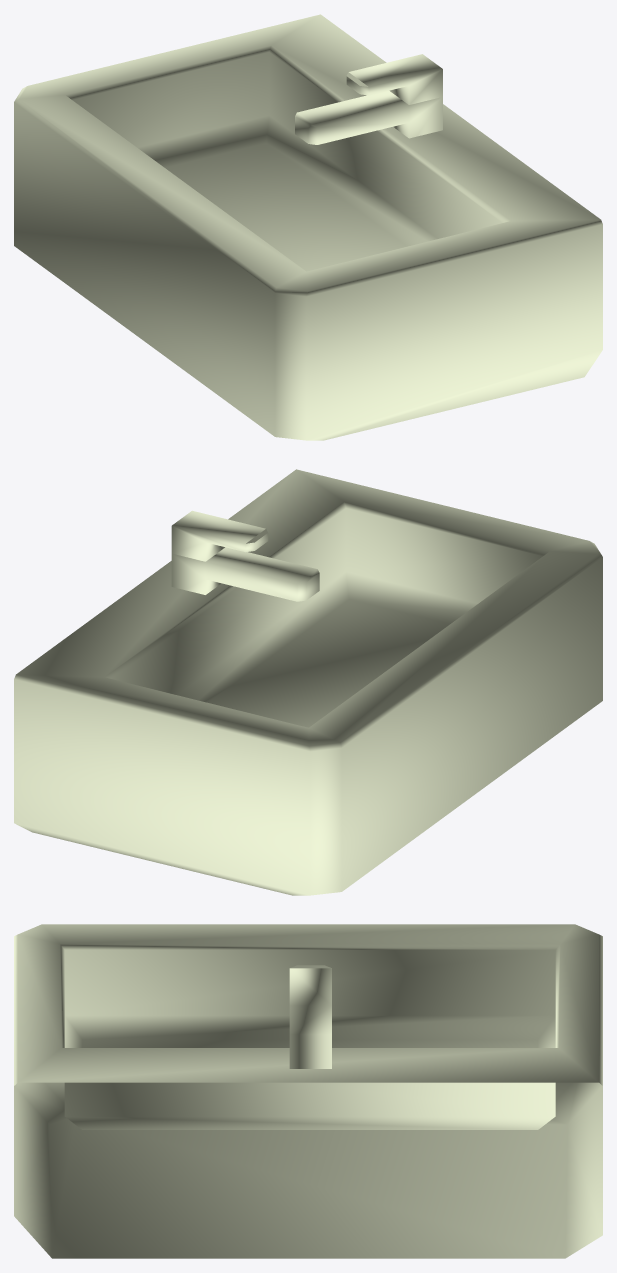
File: cotf_sink.FBX
3 views of the same model, one above another, from view 1: azimuth 30°, elevation 25°; view 2: azimuth 150°, elevation 25°; view 3: azimuth 270°, elevation 25° (orthographic). The views are drawn at different scales.
Parts seen in each view (by area): view 1: cotf_sink; view 2: cotf_sink; view 3: cotf_sink.
Part boxes in pixels (x1=…): cotf_sink: x1=14, y1=14, x2=602, y2=440; cotf_sink: x1=14, y1=469, x2=602, y2=895; cotf_sink: x1=14, y1=924, x2=602, y2=1258.
Size of the model in its own units: 0.6183 by 0.4312 by 0.9618.
